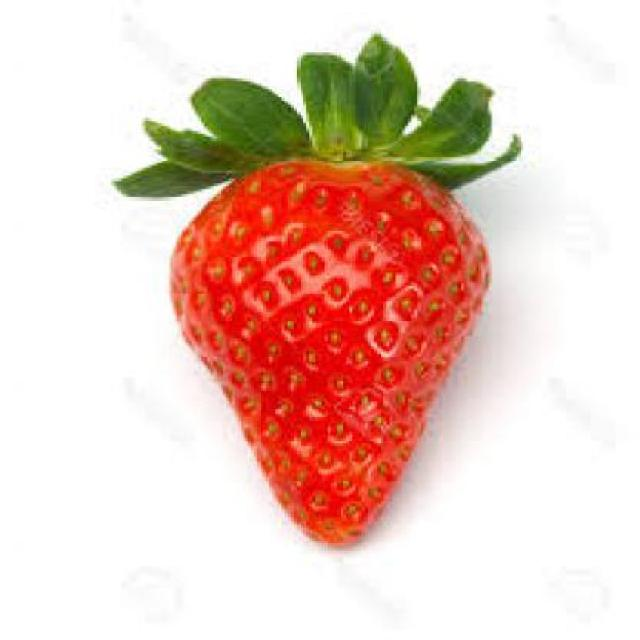BIODEGRADABLE: (114, 31, 526, 548)
